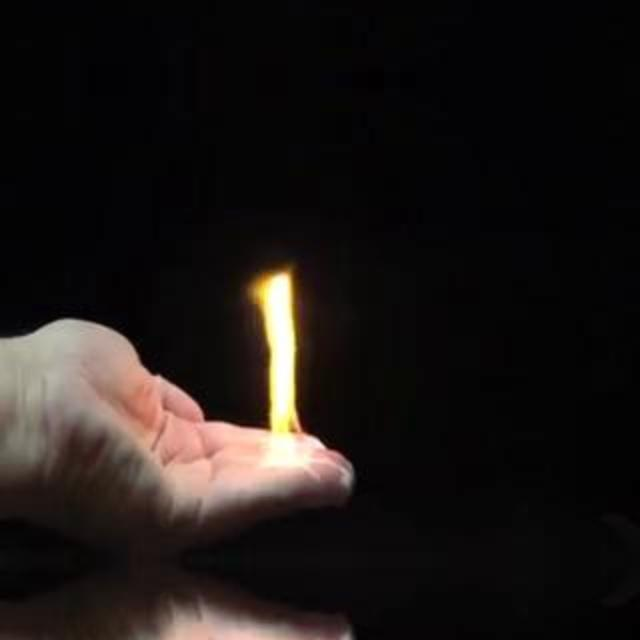smoke: (252, 268, 308, 442)
